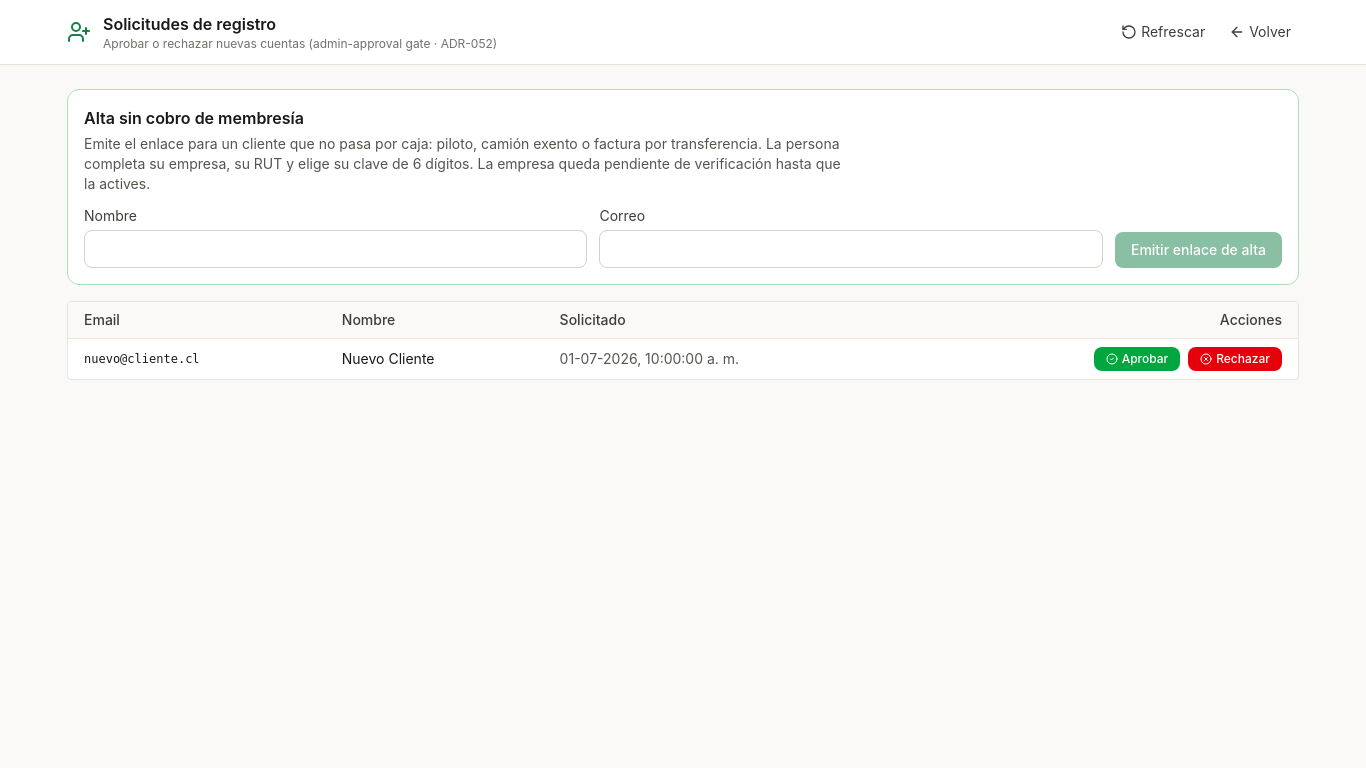
PlatformAdminSignupRequestsRoute — W1.4 onboarding_link › botón "Ocultar" quita el panel del link de onboarding
This screenshot has width=1366, height=768.
Expected: the text "nuevo@cliente.cl" is shown, 68,338 -> 326,379
Step 1. Click the button "Aprobar" → click(1137, 359), box 1094,347 -> 1180,371
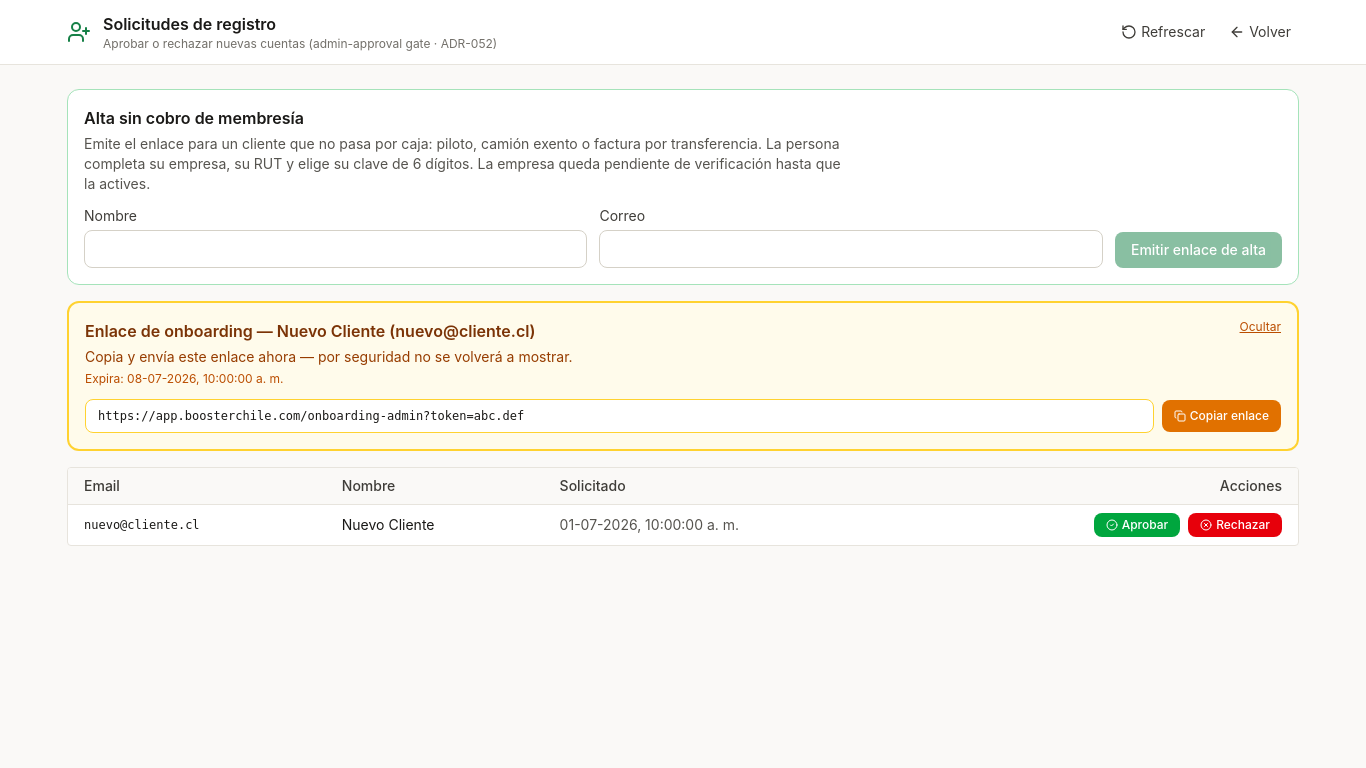
Expected: the button "Ocultar" is shown
Step 2. Click the button "Ocultar" → click(1260, 327), box 1240,319 -> 1281,335
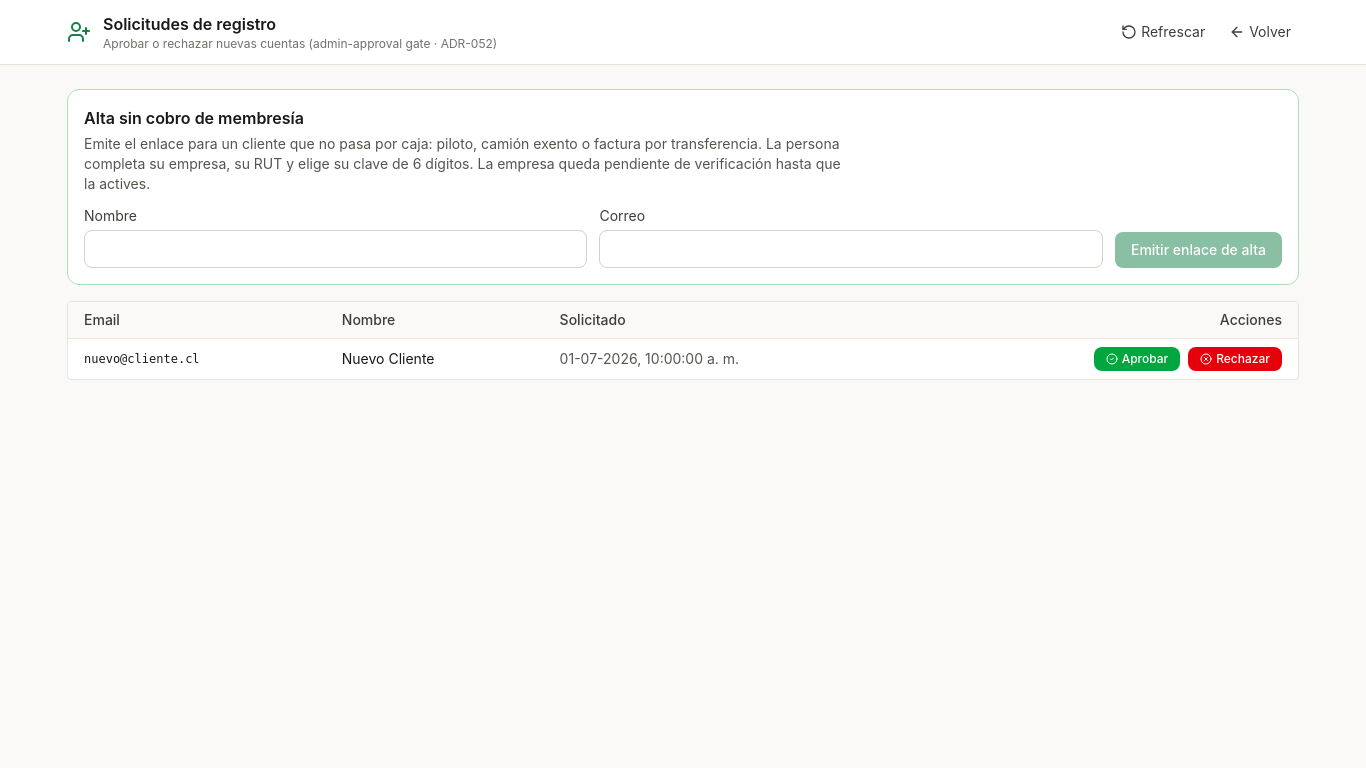
Expected: the text "https://app.boosterchile.com/onboarding-admin?token=abc.def" is gone
